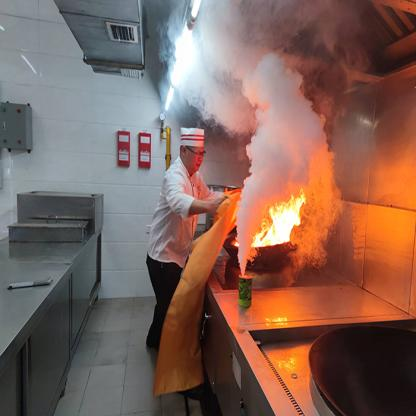fire: (244, 184, 306, 254)
smoke: (154, 0, 391, 279)
